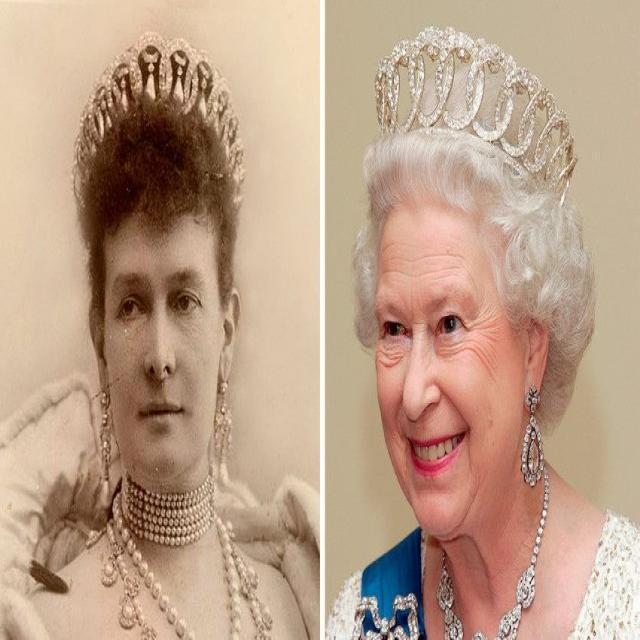Earring: (86, 378, 125, 514), (204, 348, 243, 473), (514, 378, 554, 492)
